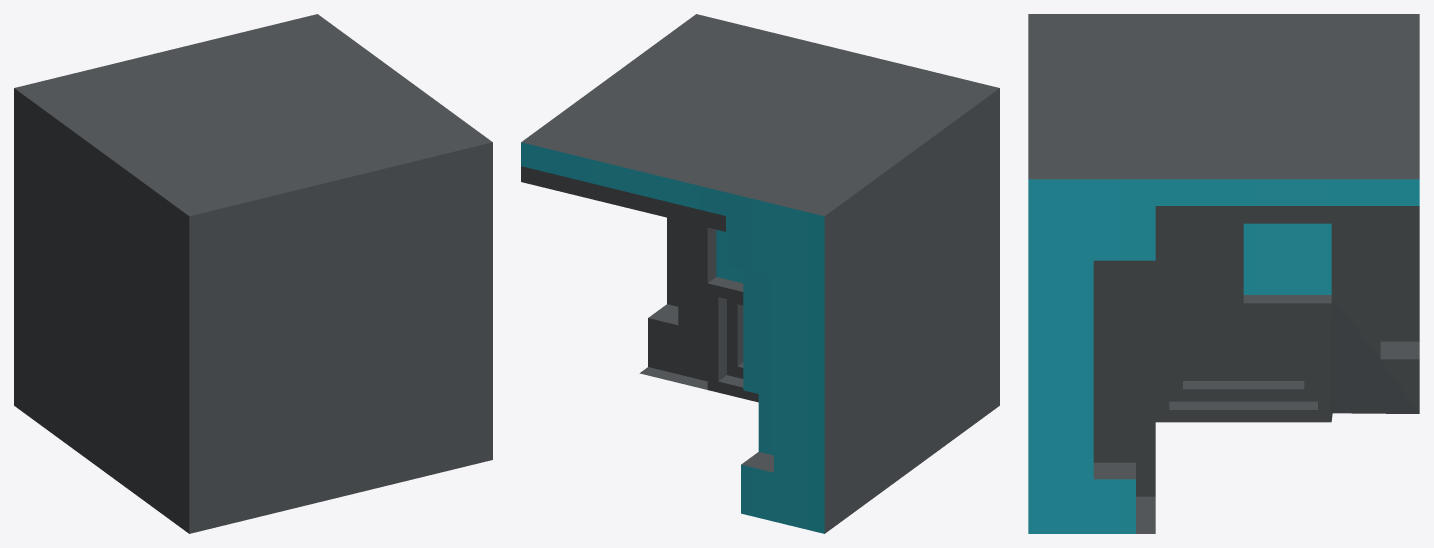
Rendered from EspacioContenidoEsquinaCierreInteriorBajoNI.gltf.
The picture shows the model from 3 angles, left to right: view 1: azimuth 30°, elevation 25°; view 2: azimuth 150°, elevation 25°; view 3: azimuth 270°, elevation 25°; orthographic projection. The views are drawn at different scales.
Parts seen in each view (by area): view 1: Cubo.4; view 2: Cubo.4; view 3: Cubo.4.
Part boxes in pixels (<box>): Cubo.4: <box>14,14,492,533</box>; Cubo.4: <box>521,14,999,533</box>; Cubo.4: <box>1028,14,1419,533</box>.
Size of the model in its own units: 2 by 2 by 2.
Materials: 1 (1 with a texture image).
